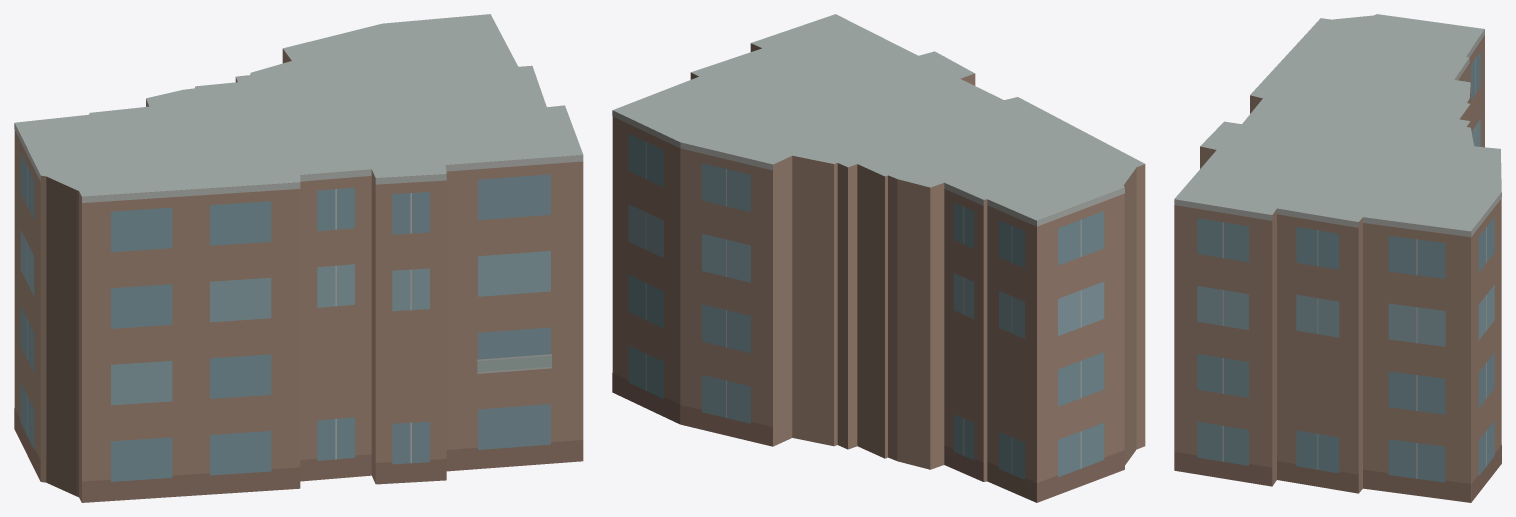
Rendered from survey-upis-32773161.glb.
The picture shows the model from 3 angles, left to right: view 1: azimuth 30°, elevation 25°; view 2: azimuth 150°, elevation 25°; view 3: azimuth 270°, elevation 25°; orthographic projection. The views are drawn at different scales.
Parts seen in each view (by area): view 1: survey-upis-32773161.tmp; view 2: survey-upis-32773161.tmp; view 3: survey-upis-32773161.tmp.
Boxes of the visible parts, <box> form: survey-upis-32773161.tmp: <box>14,14,583,502</box>; survey-upis-32773161.tmp: <box>612,14,1145,502</box>; survey-upis-32773161.tmp: <box>1174,14,1501,502</box>.
Size of the model in its own units: 19.69 by 11.45 by 12.53.
